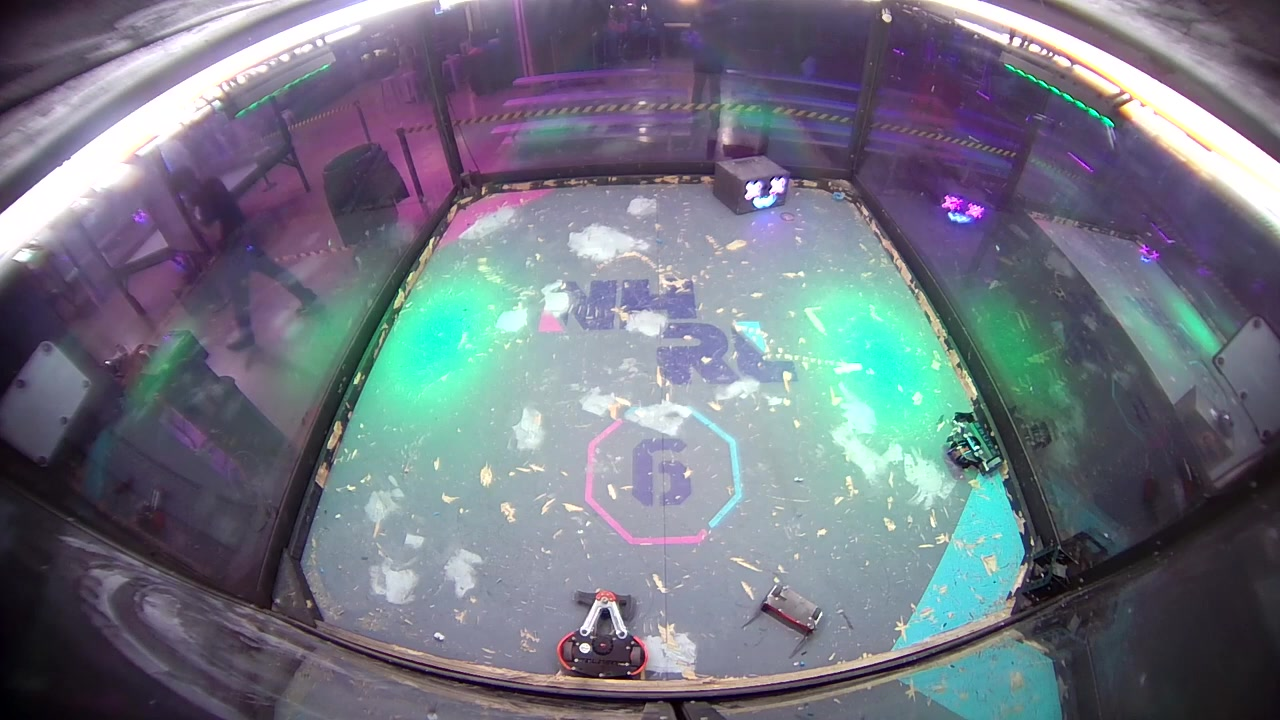combatbot: (557, 586, 648, 679), (946, 413, 1006, 479)
housebot: (712, 155, 789, 215)
minibot: (739, 583, 825, 658)
